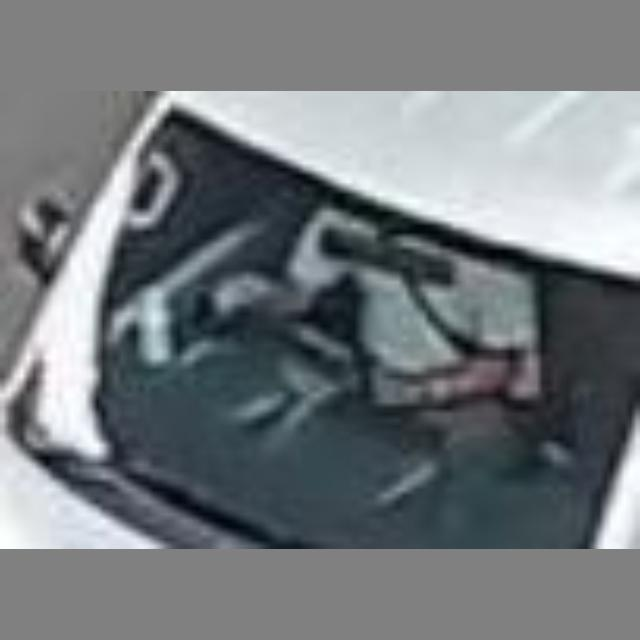pakai: (251, 198, 540, 424)
